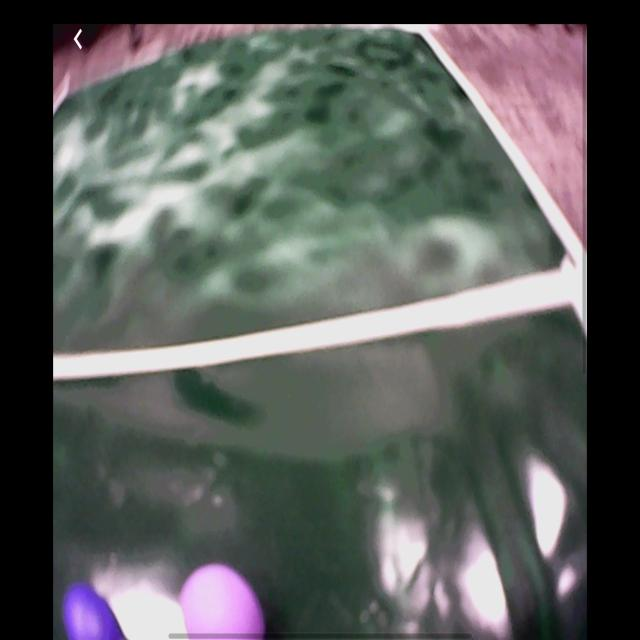ball: (176, 566, 268, 639), (63, 584, 121, 640)
